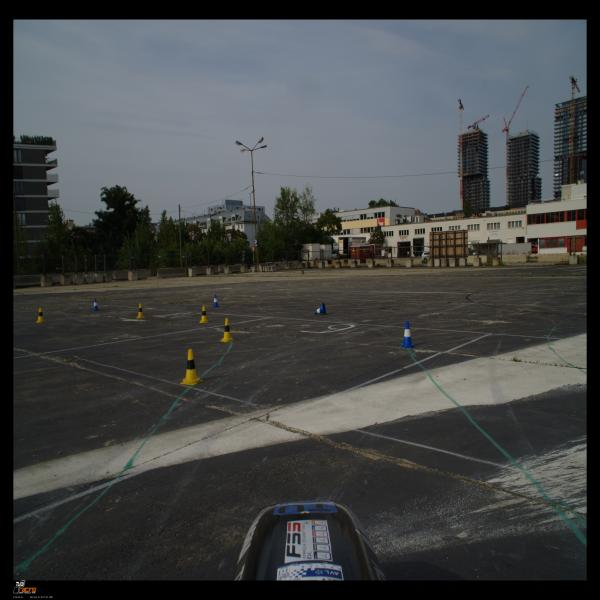blue_cone: (399, 321, 416, 348), (314, 303, 327, 314), (212, 294, 219, 308), (92, 299, 99, 311)
yellow_cone: (180, 349, 203, 385), (219, 318, 235, 342), (35, 308, 46, 322), (200, 306, 209, 323), (136, 303, 144, 319)
